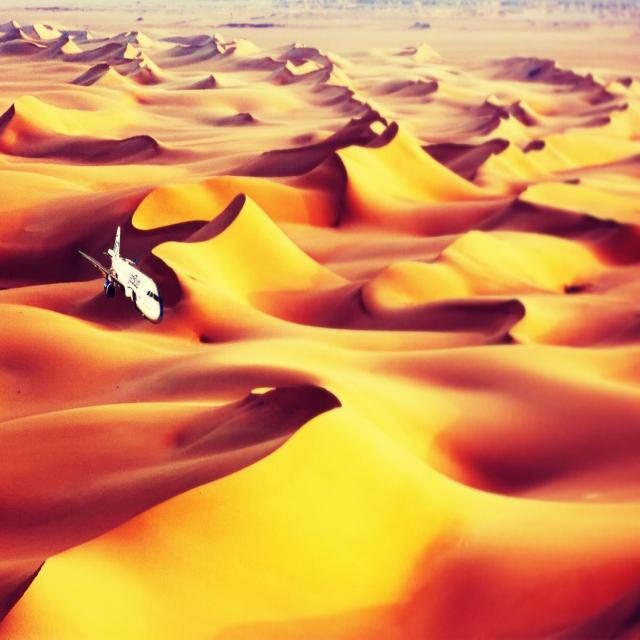airplane: (78, 224, 164, 324)
